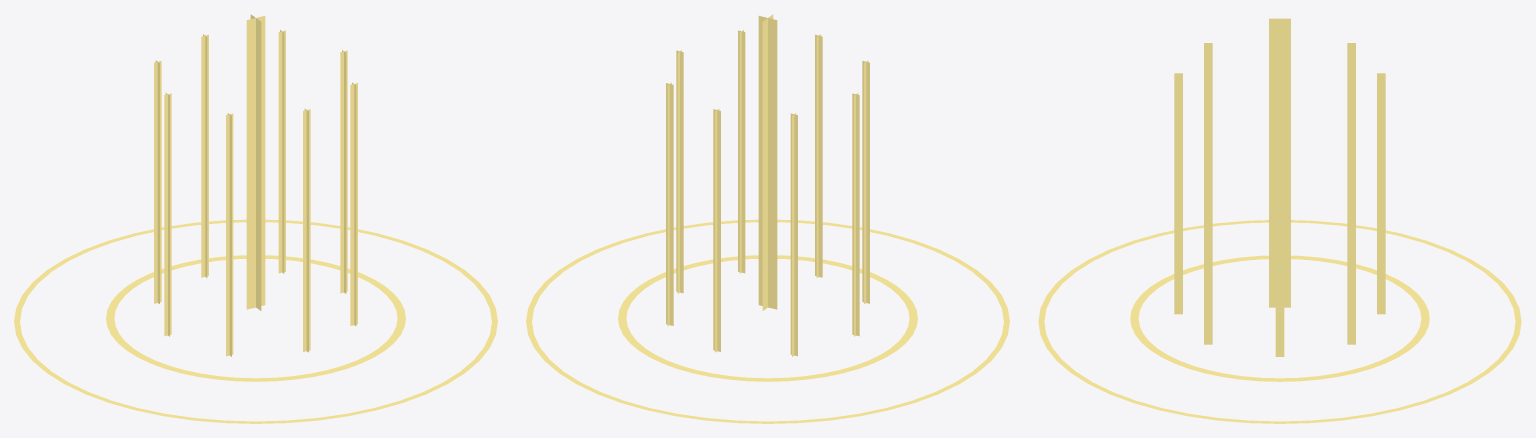
Rendered from paladin.glb.
3 renders of one model, left to right at view 1: azimuth 30°, elevation 25°; view 2: azimuth 150°, elevation 25°; view 3: azimuth 270°, elevation 25°, orthographic.
Parts seen in each view (by area): view 1: paladin_ultimate; view 2: paladin_ultimate; view 3: paladin_ultimate.
Boxes of the visible parts, x1,y1,x2,y2 form: paladin_ultimate: (14,14,497,423); paladin_ultimate: (526,14,1009,423); paladin_ultimate: (1038,18,1521,423).
Bounding box in the file's own units: 2 × 1.38 × 2.
